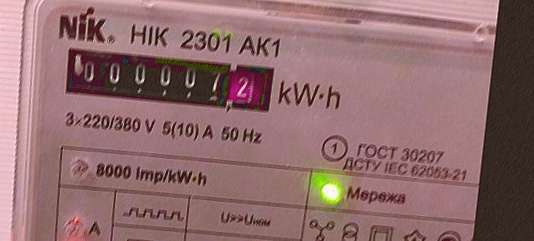0: (78, 57, 95, 83), (130, 61, 146, 85), (155, 63, 171, 87), (180, 65, 195, 89), (104, 60, 119, 83)
2: (232, 74, 248, 99)
7: (206, 67, 220, 93)
screen: (50, 34, 283, 124)
